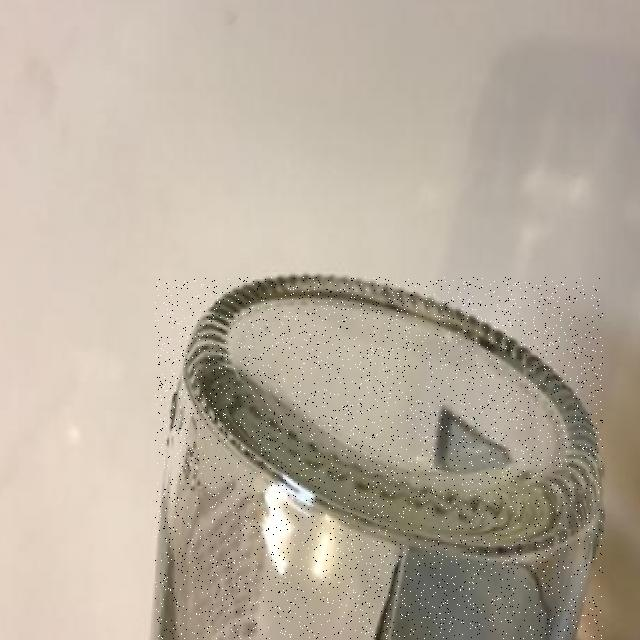glass: (156, 278, 603, 640)
